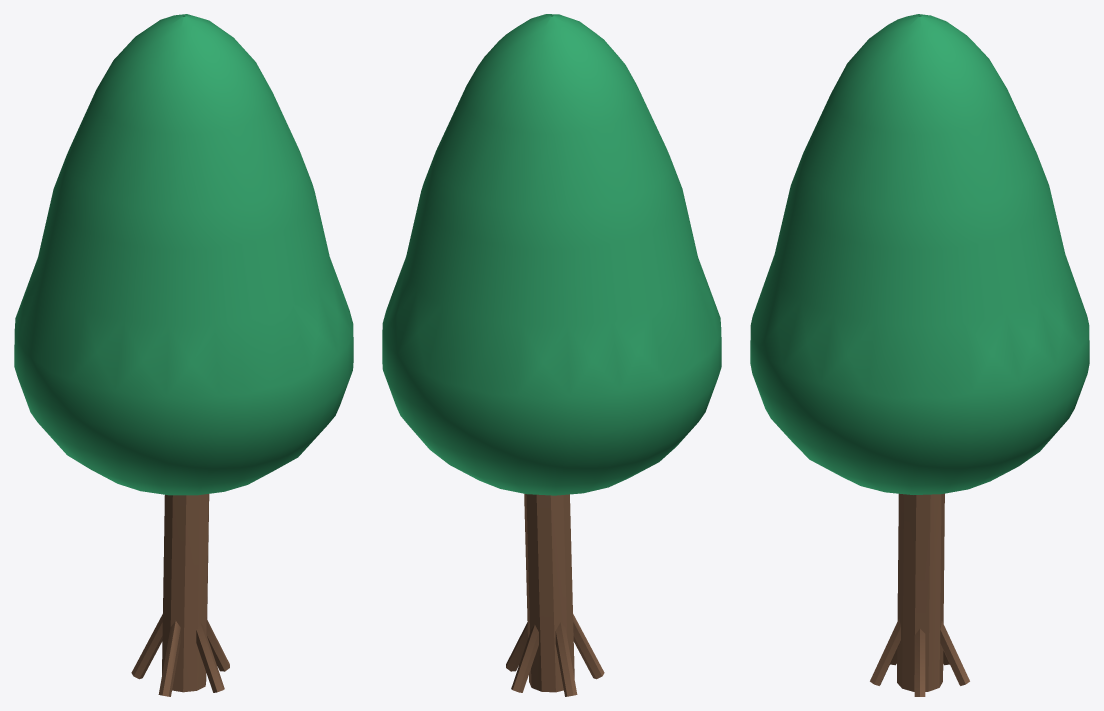
File: tree-low.glb
The picture shows the model from 3 angles, left to right: view 1: azimuth 30°, elevation 25°; view 2: azimuth 150°, elevation 25°; view 3: azimuth 270°, elevation 25°; orthographic projection.
Visible parts, largest first — view 1: rounded canopy, trunk; view 2: rounded canopy, trunk; view 3: rounded canopy, trunk.
Part boxes in pixels (x1,y1,x2,y2): rounded canopy: (14, 14, 353, 495); trunk: (131, 494, 229, 696); rounded canopy: (382, 14, 721, 495); trunk: (506, 494, 604, 696); rounded canopy: (750, 14, 1089, 494); trunk: (870, 493, 969, 696).
Size of the model in its own units: 1.06 by 2.29 by 1.06.
